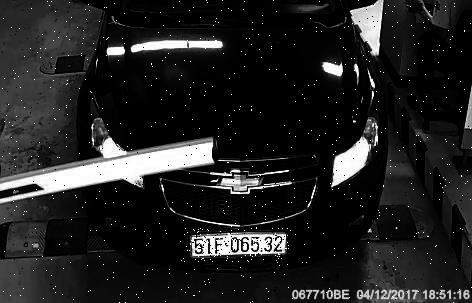License-plate: (185, 229, 293, 263)
